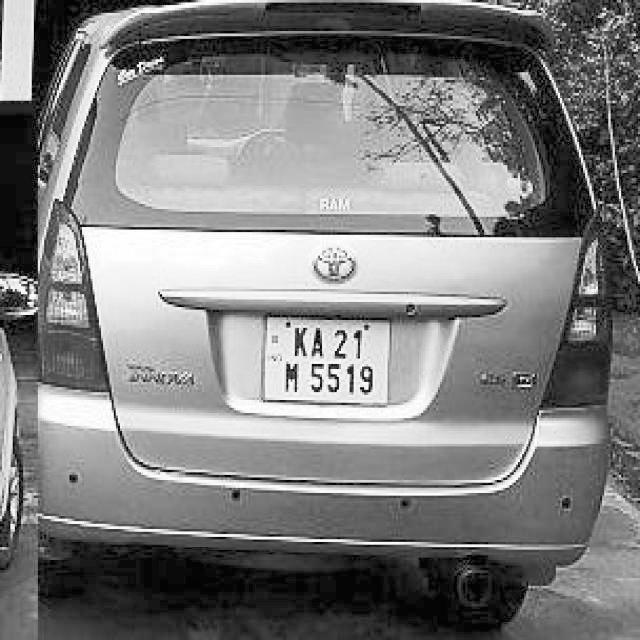Car: (17, 4, 620, 624)
